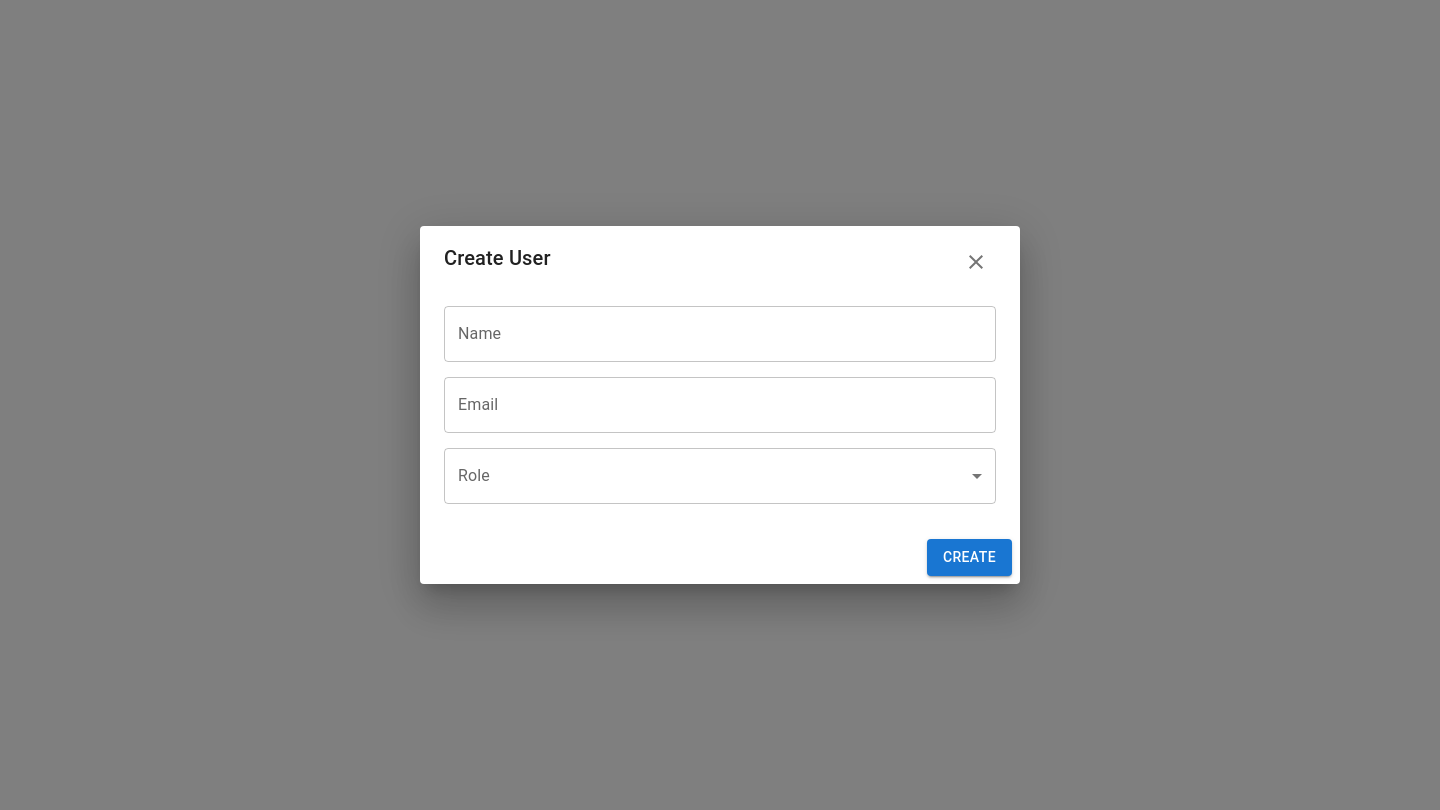
Test case: UserActionDialog › Create User › should display information correctly
Check: the heading with test id "user-create-title" reads "Create User", box [444, 246, 551, 270]
Check: the button with test id "user-create-close-button" is shown, box [956, 242, 996, 282]
Click the dropdown with test id "user-create-role-select".
click(720, 476)  # box [444, 448, 996, 504]
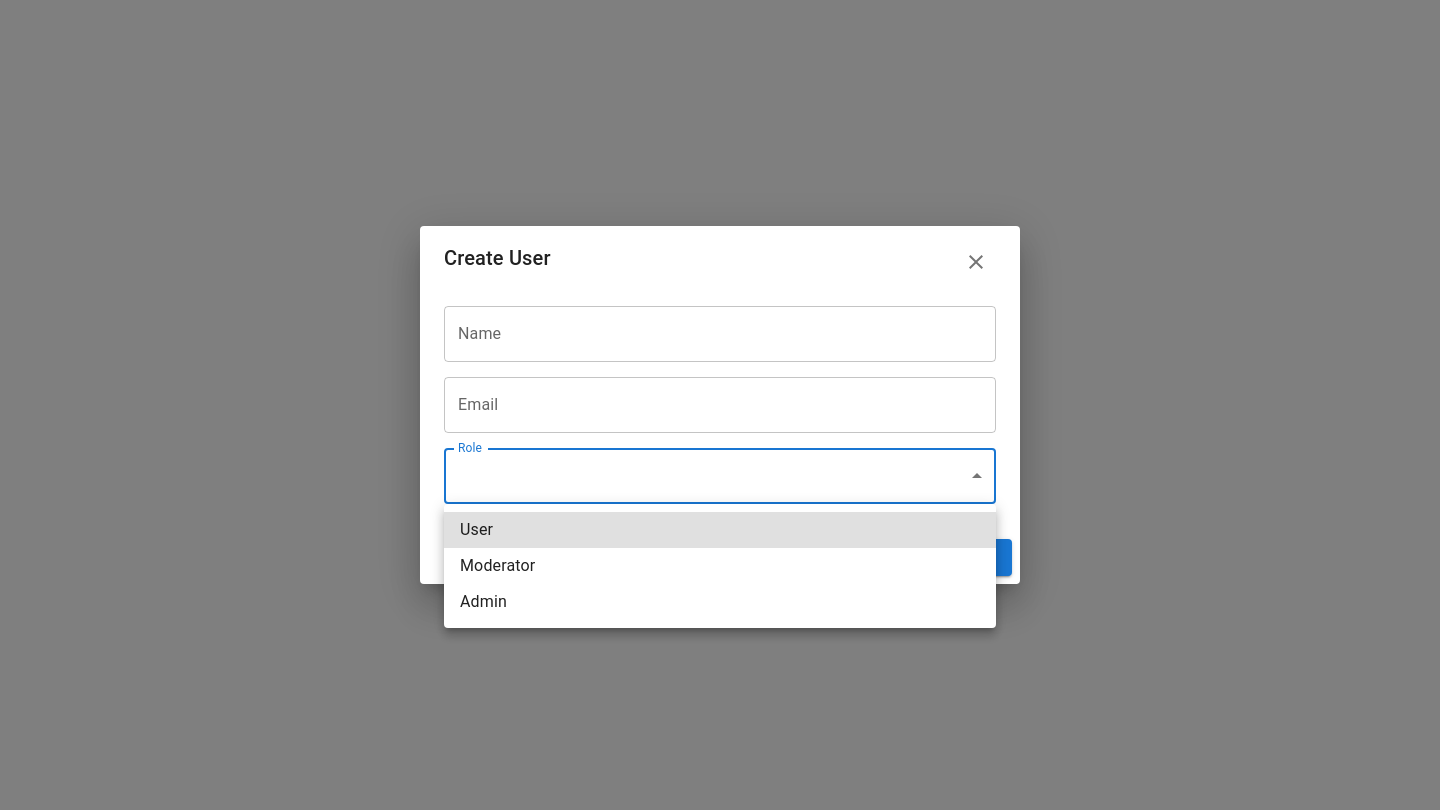
Check: the option with test id "user-create-role-select-item-0" reads "User", box [444, 512, 996, 548]
Check: the option with test id "user-create-role-select-item-1" reads "Moderator", box [460, 556, 535, 575]
Check: the option with test id "user-create-role-select-item-2" reads "Admin", box [460, 592, 507, 611]
